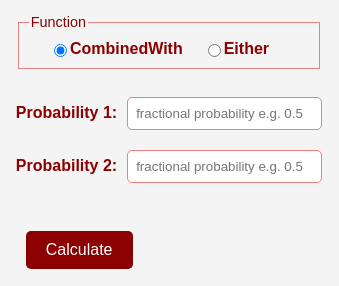
Test: selecting Either checks ProbFun-Either
Step 1. Click the radio button labelled "Either" → [214, 50], box [208,44,221,57]
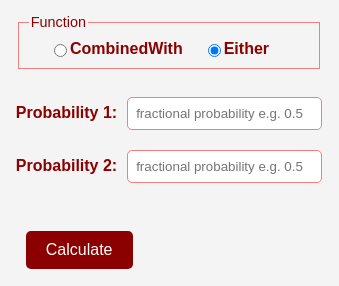
Expected: the radio button with test id "probFun-Either" is checked, [208,44,221,57]
Expected: the radio button with test id "probFun-Combined" is not checked, [54,44,67,57]
